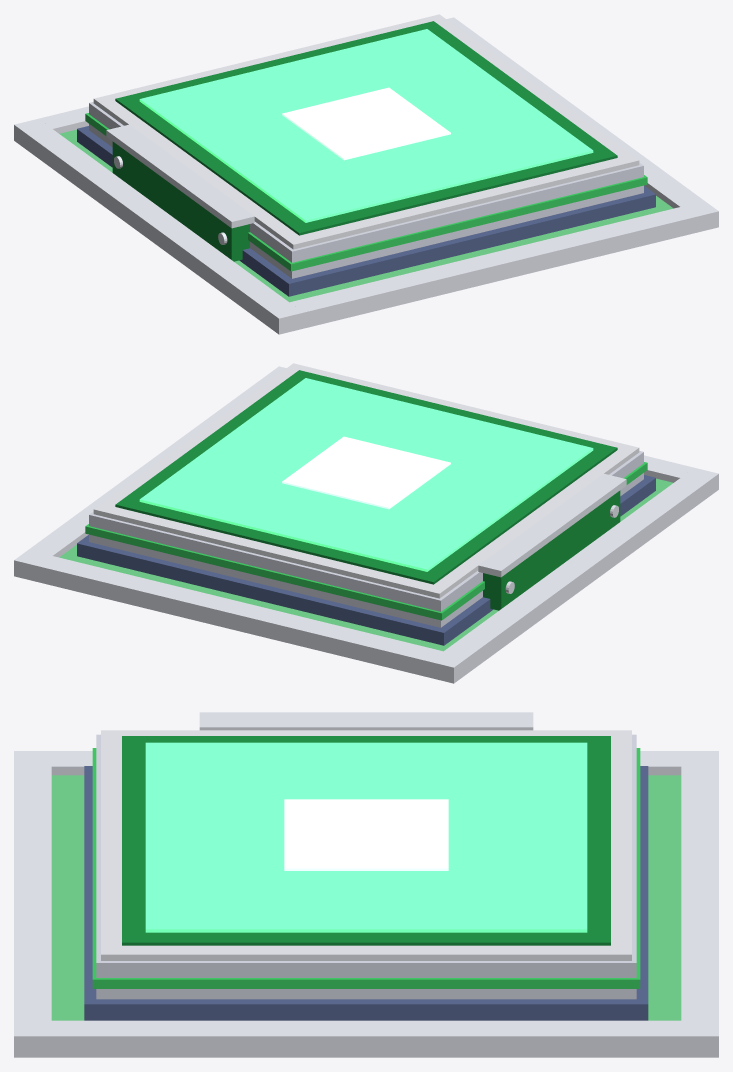
File: GunPedestal.glb
The picture shows the model from 3 angles, top to bottom: view 1: azimuth 30°, elevation 25°; view 2: azimuth 150°, elevation 25°; view 3: azimuth 270°, elevation 25°; orthographic projection. The views are drawn at different scales.
Visible parts, largest first — view 1: StateTop_10, MatRim_03, PadLip_08, StateShade_09, MatRim_01, PadBase_06, PadPlinth_05, StateGlow_11, StateStrip_12, StateTop_07, PlateCap_13, MatRim_02 (+2 smaller); view 2: StateTop_10, MatRim_04, PadLip_08, StateShade_09, MatRim_01, PadBase_06, PadPlinth_05, StateGlow_11, StateStrip_12, StateTop_07, PlateCap_13, MatRim_02 (+2 smaller); view 3: StateTop_10, MatRim_02, PadLip_08, StateShade_09, PadBase_06, StateMat_00, PadPlinth_05, StateGlow_11, MatRim_03, MatRim_04, StateTop_07, PlateCap_13 (+1 smaller).
Part boxes in pixels (x1,y1,x2,y2): StateTop_10: (139, 29, 593, 222); MatRim_03: (290, 207, 694, 328); PadLip_08: (93, 14, 639, 249); StateShade_09: (115, 21, 617, 235); MatRim_01: (14, 118, 303, 334); PadBase_06: (89, 102, 643, 278); PadPlinth_05: (77, 126, 655, 296); StateGlow_11: (282, 87, 450, 160); StateStrip_12: (112, 141, 249, 261); StateTop_07: (85, 113, 647, 271); PlateCap_13: (106, 124, 254, 228); MatRim_02: (446, 17, 718, 232); StateTop_10: (139, 378, 593, 571); MatRim_04: (38, 556, 442, 677); PadLip_08: (93, 363, 639, 598); StateShade_09: (115, 370, 617, 584); MatRim_01: (429, 467, 718, 683); PadBase_06: (89, 451, 643, 627); PadPlinth_05: (77, 475, 655, 645); StateGlow_11: (282, 436, 450, 509); StateStrip_12: (483, 490, 620, 610); StateTop_07: (85, 462, 647, 620); PlateCap_13: (478, 473, 626, 577); MatRim_02: (14, 366, 286, 581); StateTop_10: (145, 742, 587, 932); MatRim_02: (14, 1020, 718, 1057); PadLip_08: (101, 730, 631, 960); StateShade_09: (122, 736, 610, 945); PadBase_06: (96, 734, 636, 999); StateMat_00: (51, 775, 681, 1020); PadPlinth_05: (84, 766, 648, 1020); StateGlow_11: (284, 799, 448, 870); MatRim_03: (14, 766, 51, 1020); MatRim_04: (681, 766, 718, 1020); StateTop_07: (92, 748, 640, 988); PlateCap_13: (199, 712, 533, 730).
Size of the model in its own units: 5.75 by 0.76 by 6.
